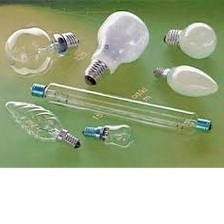light_bulb: (26, 80, 215, 139), (80, 5, 152, 87), (1, 98, 82, 153), (0, 28, 81, 80), (161, 19, 221, 63), (149, 63, 220, 99), (78, 120, 139, 148)
